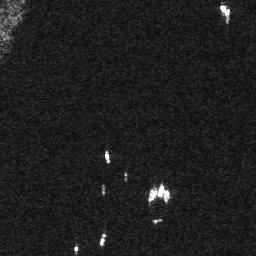ship: (219, 4, 232, 20), (146, 187, 157, 202), (103, 149, 111, 164), (99, 233, 108, 245), (164, 188, 170, 205), (158, 182, 163, 199)
